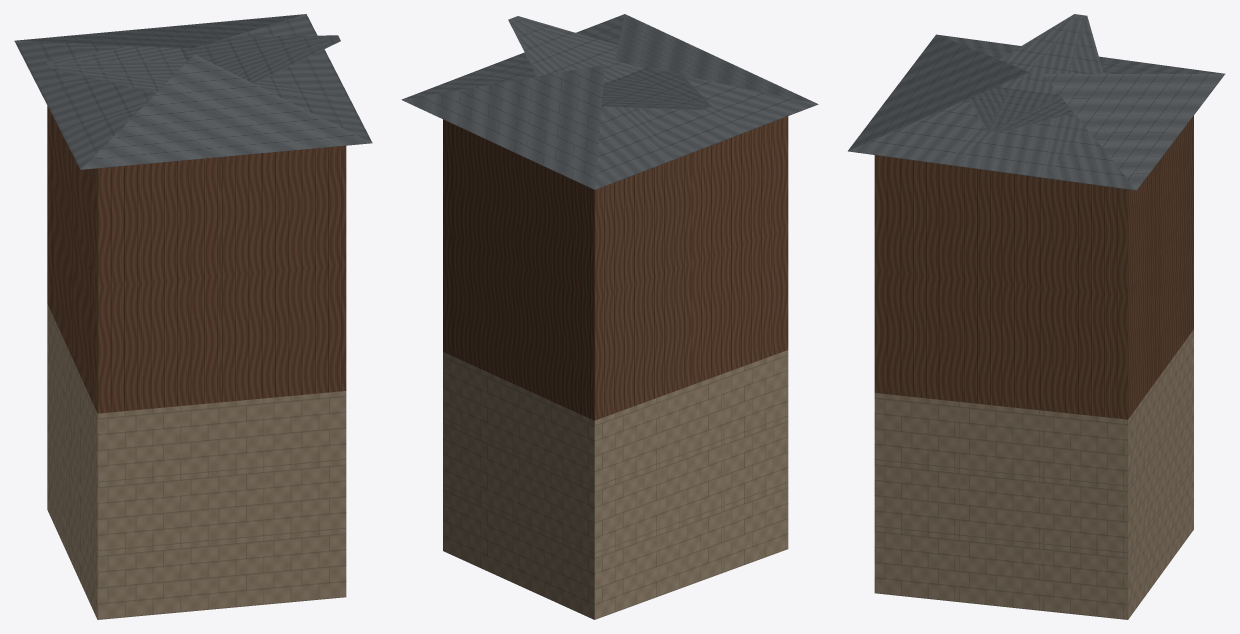
File: bld_c24_30_394.gltf
3 renders of one model, left to right at view 1: azimuth 30°, elevation 25°; view 2: azimuth 150°, elevation 25°; view 3: azimuth 270°, elevation 25°, orthographic. The views are drawn at different scales.
Parts seen in each view (by area): view 1: bld_c24_30_394; view 2: bld_c24_30_394; view 3: bld_c24_30_394.
Boxes of the visible parts, x1,y1,x2,y2 form: bld_c24_30_394: (14, 14, 372, 619); bld_c24_30_394: (401, 14, 818, 619); bld_c24_30_394: (848, 14, 1225, 619).
Bounding box in the file's own units: 8.52 × 12.4 × 8.72.
3 materials, 3 textured.
